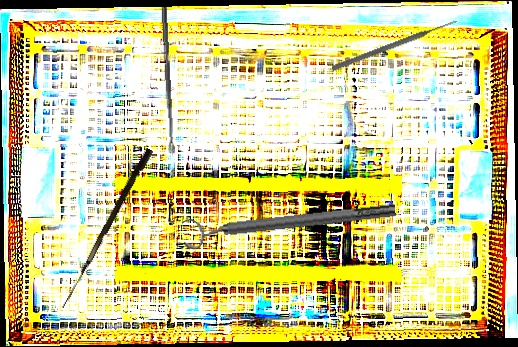Fixation Ring: (181, 194, 398, 252)
Hook Surgical: (61, 146, 154, 313)
Pusher: (330, 17, 459, 73)
Surgical Spoon: (160, 6, 175, 154)
